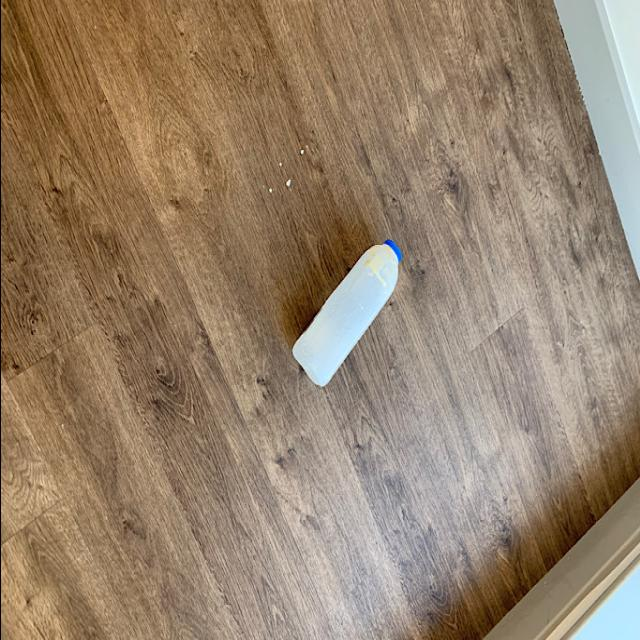HDPEM: (285, 240, 403, 392)
